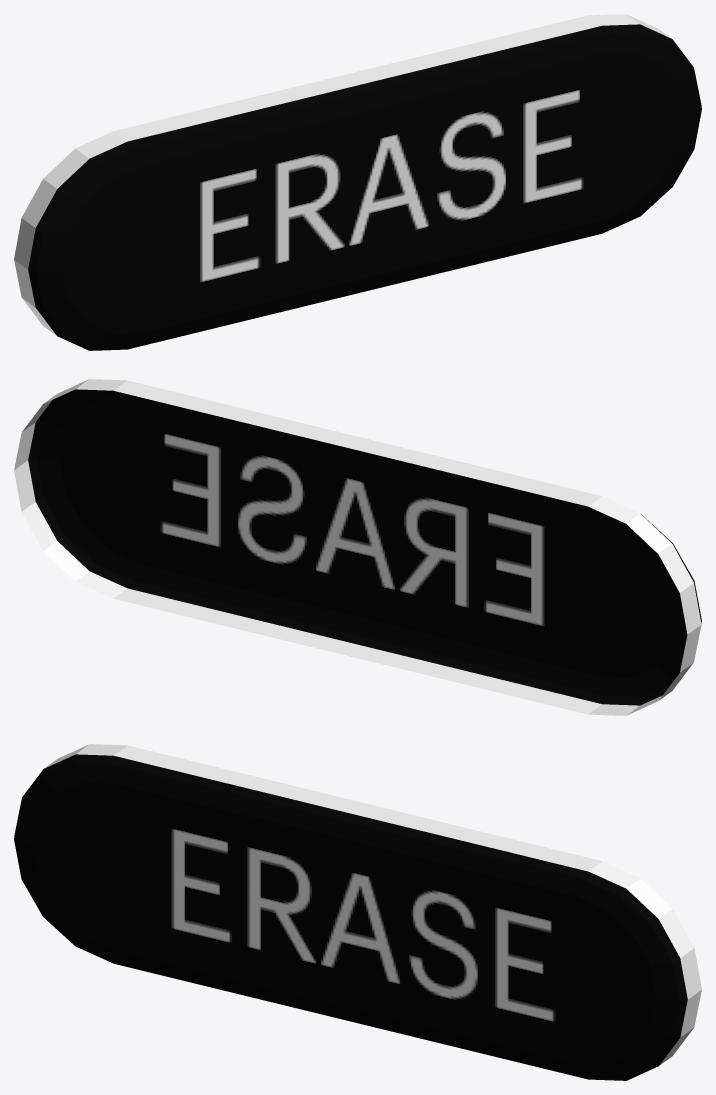
Rendered from button-erase.fbx.
3 views of the same model, one above another, from view 1: azimuth 30°, elevation 25°; view 2: azimuth 150°, elevation 25°; view 3: azimuth 330°, elevation 25° (orthographic).
Visible parts, largest first — view 1: Button-Erase; view 2: Button-Erase; view 3: Button-Erase.
Part boxes in pixels (x1,y1,x2,y2): Button-Erase: (14, 14, 701, 350); Button-Erase: (14, 379, 701, 715); Button-Erase: (14, 744, 701, 1080).
Size of the model in its own units: 34.31 by 10.12 by 1.89.
Materials: 1 (1 with a texture image).
